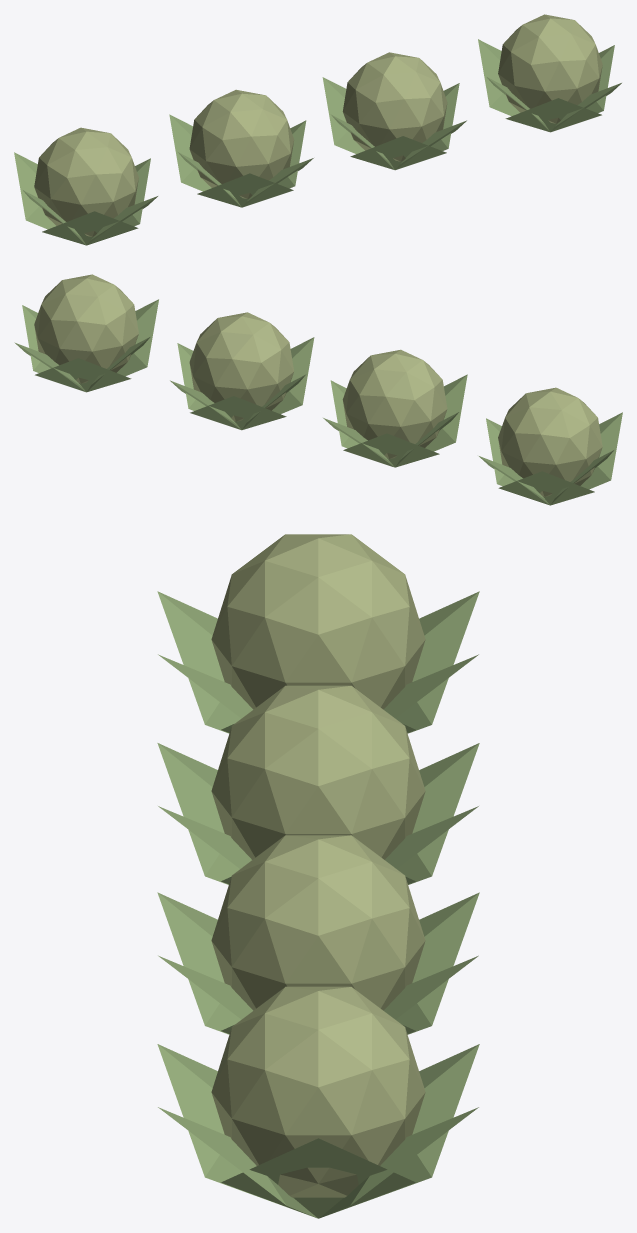
The model's file is map-exclusive-v3__farm_14.glb.
The picture shows the model from 3 angles, top to bottom: view 1: azimuth 30°, elevation 25°; view 2: azimuth 150°, elevation 25°; view 3: azimuth 270°, elevation 25°; orthographic projection. The views are drawn at different scales.
Parts seen in each view (by area): view 1: farm_14; view 2: farm_14; view 3: farm_14.
Boxes of the visible parts, x1,y1,x2,y2 form: farm_14: [14, 14, 621, 245]; farm_14: [14, 274, 622, 505]; farm_14: [157, 534, 479, 1218].
Bounding box in the file's own units: 2.94 × 0.54 × 0.6931.
